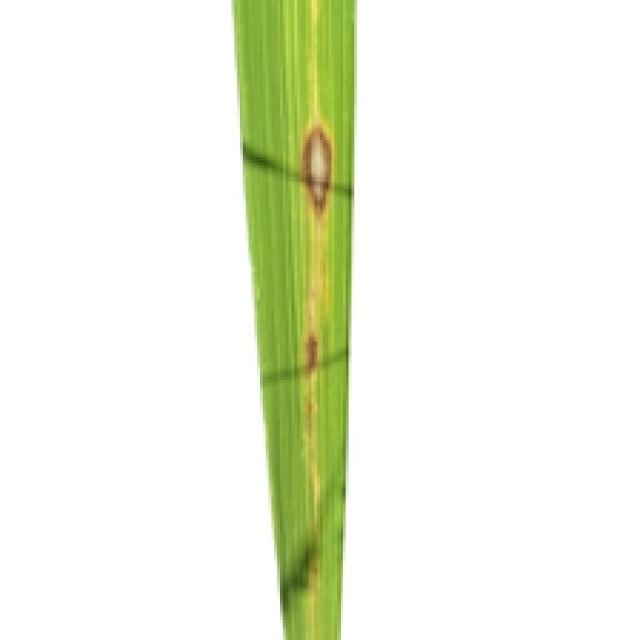Rice___Rice_Blast: (229, 0, 358, 637)
